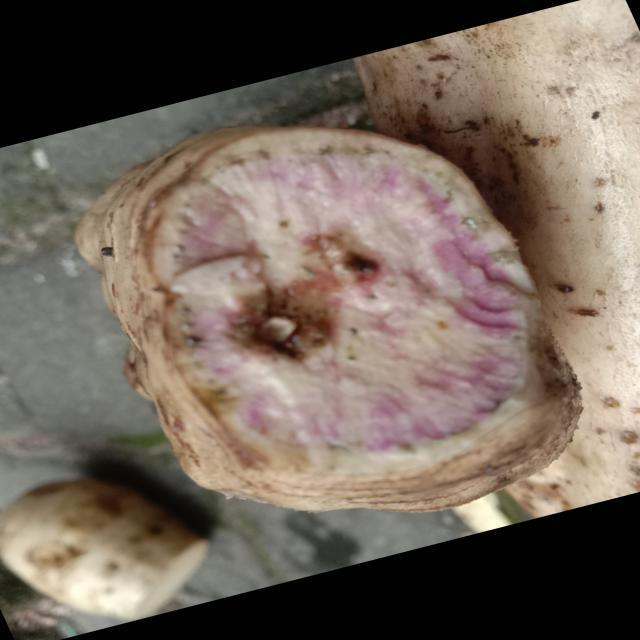Sick Sweet Potato_Tuber Rot: (115, 129, 547, 491)
